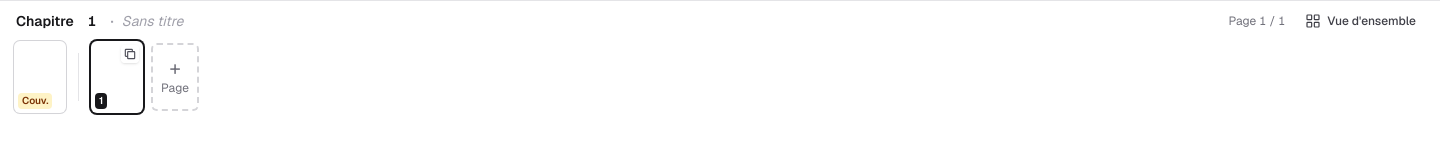
Test case: page bar › shows the cover first, then the pages, and the position
Expected: the text "Page 1 / 1" is shown, [1228,13,1285,29]
Click the button with aria-label "Couverture" at coordinates (40, 77), box [16,43,64,111]
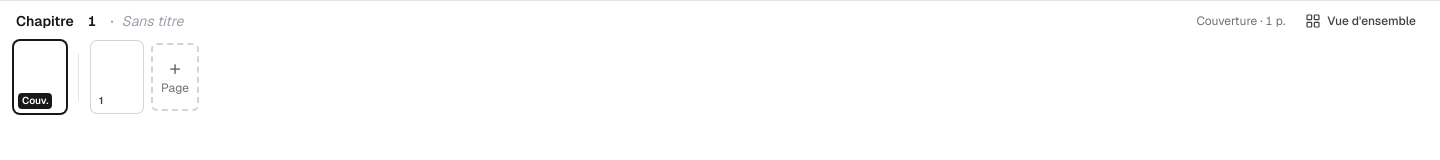
Result: the text "Couverture · 1 p." is shown at [1196,13,1285,29]
